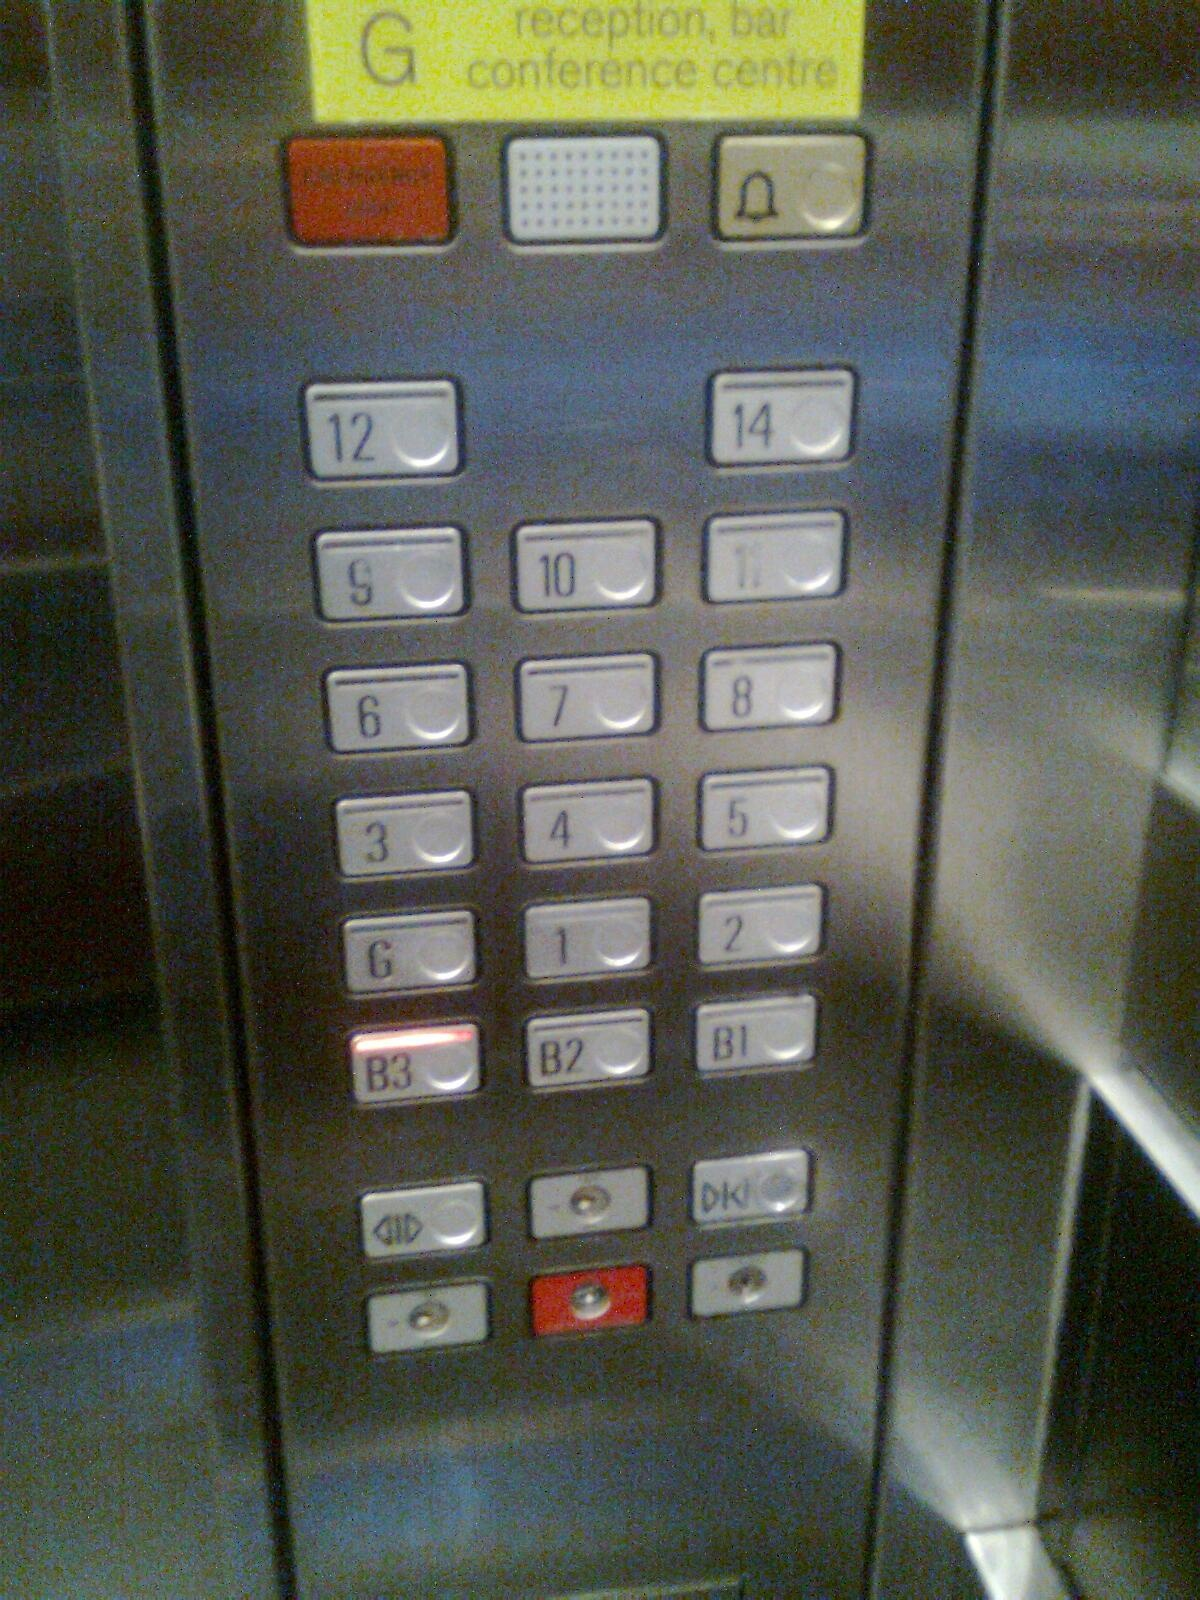1: (516, 891, 657, 984)
10: (507, 514, 664, 616)
11: (698, 505, 850, 607)
12: (300, 375, 466, 486)
14: (705, 359, 858, 469)
2: (691, 879, 826, 974)
3: (329, 784, 476, 882)
4: (516, 774, 658, 869)
5: (695, 762, 834, 855)
6: (319, 658, 478, 753)
7: (512, 645, 662, 745)
8: (695, 636, 843, 733)
9: (308, 522, 474, 626)
B1: (688, 990, 819, 1080)
B2: (521, 1002, 655, 1094)
B3: (340, 1015, 487, 1107)
G: (335, 901, 484, 1002)
alarm: (708, 129, 874, 246)
bt_keyhole: (524, 1260, 657, 1339), (524, 1160, 658, 1238), (361, 1276, 492, 1354), (684, 1243, 811, 1324)
close: (688, 1145, 818, 1230)
open: (355, 1175, 492, 1260)
speaker: (500, 131, 671, 251)
text_blur: (279, 131, 460, 254)
